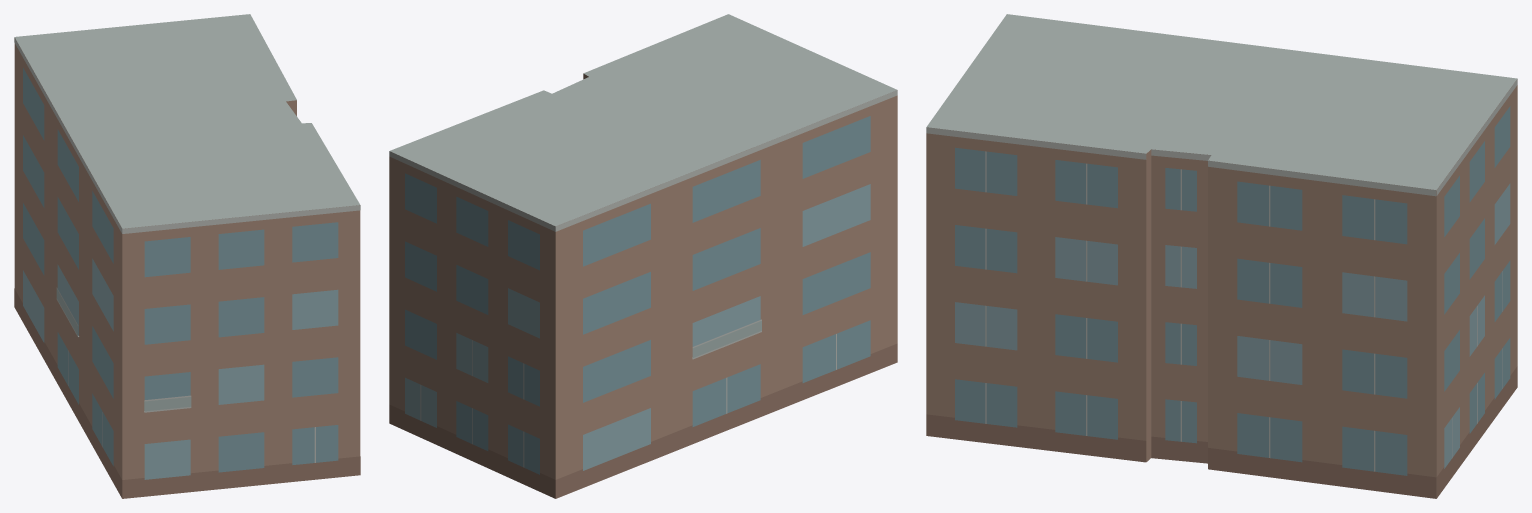
The model's file is survey-upis-32856493.glb.
3 views of the same model, side by side, from view 1: azimuth 30°, elevation 25°; view 2: azimuth 150°, elevation 25°; view 3: azimuth 270°, elevation 25° (orthographic). The views are drawn at different scales.
Visible parts, largest first — view 1: survey-upis-32856493.tmp; view 2: survey-upis-32856493.tmp; view 3: survey-upis-32856493.tmp.
Part boxes in pixels (x1=…): survey-upis-32856493.tmp: x1=14, y1=14, x2=360, y2=498; survey-upis-32856493.tmp: x1=389, y1=14, x2=897, y2=498; survey-upis-32856493.tmp: x1=926, y1=14, x2=1517, y2=498.
Size of the model in its own units: 14.94 by 12.2 by 21.19.
